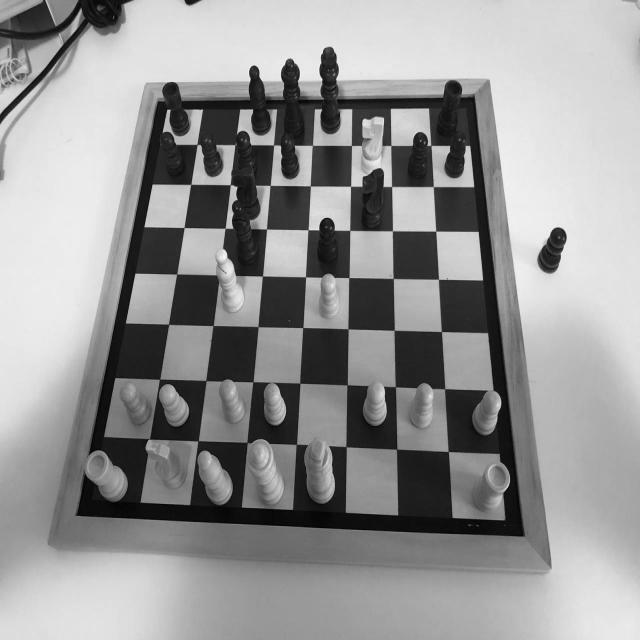chess-table-corners: (510, 524, 538, 548), (68, 504, 95, 528), (468, 86, 482, 105), (153, 94, 166, 110)
